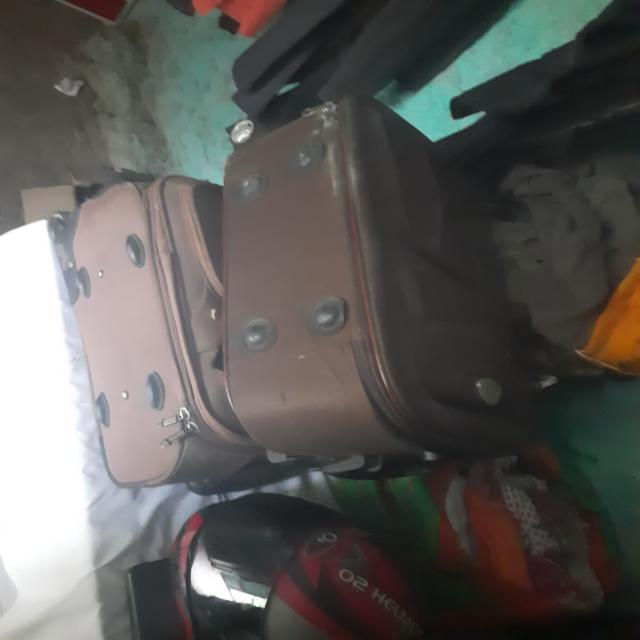suitcaserotation: (209, 89, 543, 484), (41, 165, 262, 497)
